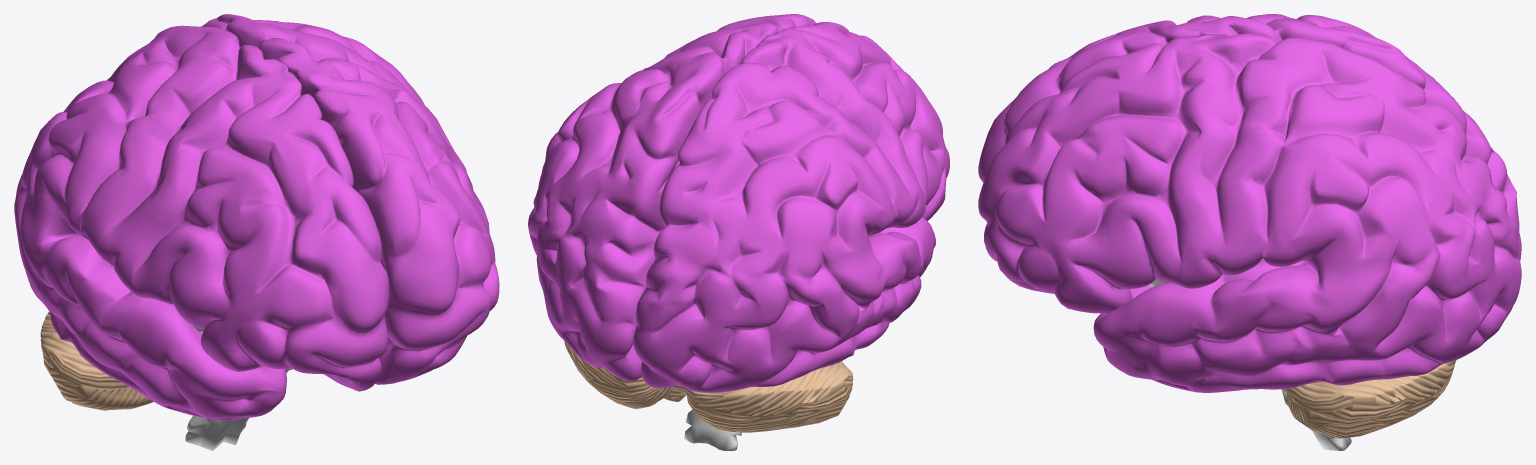
The model's file is brainScene.gltf.
The picture shows the model from 3 angles, left to right: view 1: azimuth 30°, elevation 25°; view 2: azimuth 150°, elevation 25°; view 3: azimuth 270°, elevation 25°; orthographic projection. The views are drawn at different scales.
Parts seen in each view (by area): view 1: Brain_Part_06, Brain_Part_04, Brain_Part_02, Brain_Part_05; view 2: Brain_Part_06, Brain_Part_04, Brain_Part_02, Brain_Part_05; view 3: Brain_Part_04, Brain_Part_06, Brain_Part_02, Brain_Part_05.
Part boxes in pixels (bbox=[...]): Brain_Part_06: bbox=[14, 25, 388, 420]; Brain_Part_04: bbox=[201, 14, 499, 384]; Brain_Part_02: bbox=[40, 312, 292, 410]; Brain_Part_05: bbox=[185, 326, 289, 450]; Brain_Part_06: bbox=[633, 22, 949, 392]; Brain_Part_04: bbox=[528, 14, 816, 381]; Brain_Part_02: bbox=[564, 341, 853, 432]; Brain_Part_05: bbox=[684, 409, 741, 450]; Brain_Part_04: bbox=[978, 33, 1521, 392]; Brain_Part_06: bbox=[978, 14, 1521, 260]; Brain_Part_02: bbox=[1283, 360, 1456, 438]; Brain_Part_05: bbox=[1149, 259, 1351, 450].
Size of what is drawn, in the model's own units: 3.8 by 4.02 by 4.73.
